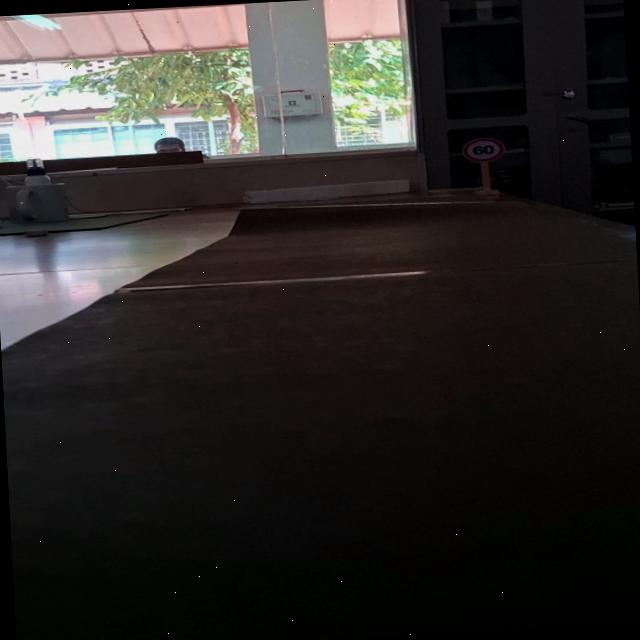Speed60: (462, 135, 506, 164)
